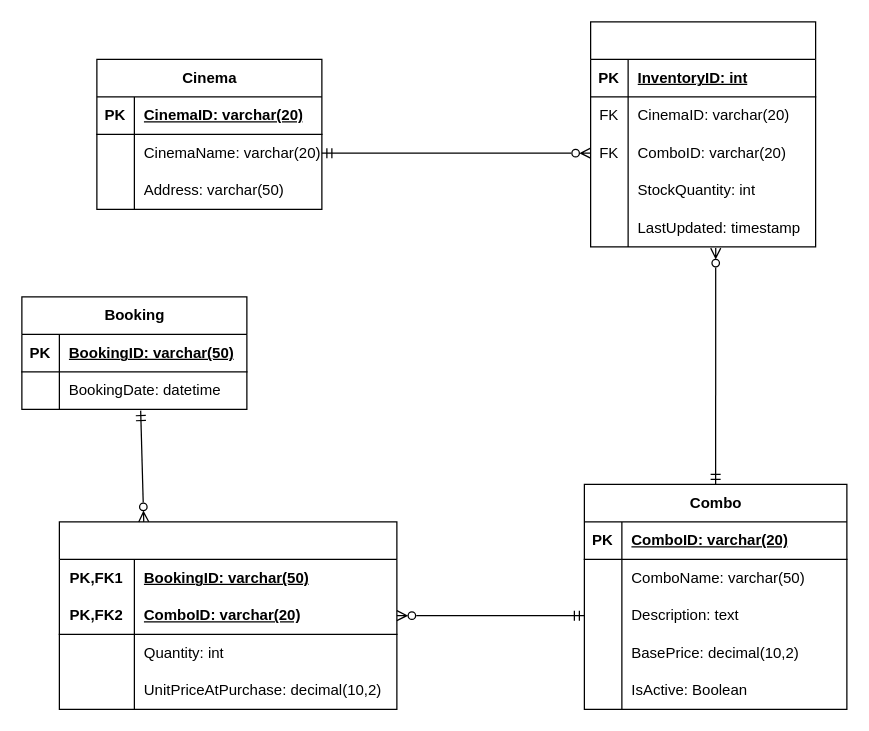
Some shapes in this 869 by 731 pixel diagram are drawn without their labels. Each missing label, with the box of its shape:
BookingDetail: (58, 521, 397, 709)
CinemaInventory: (589, 21, 816, 247)
